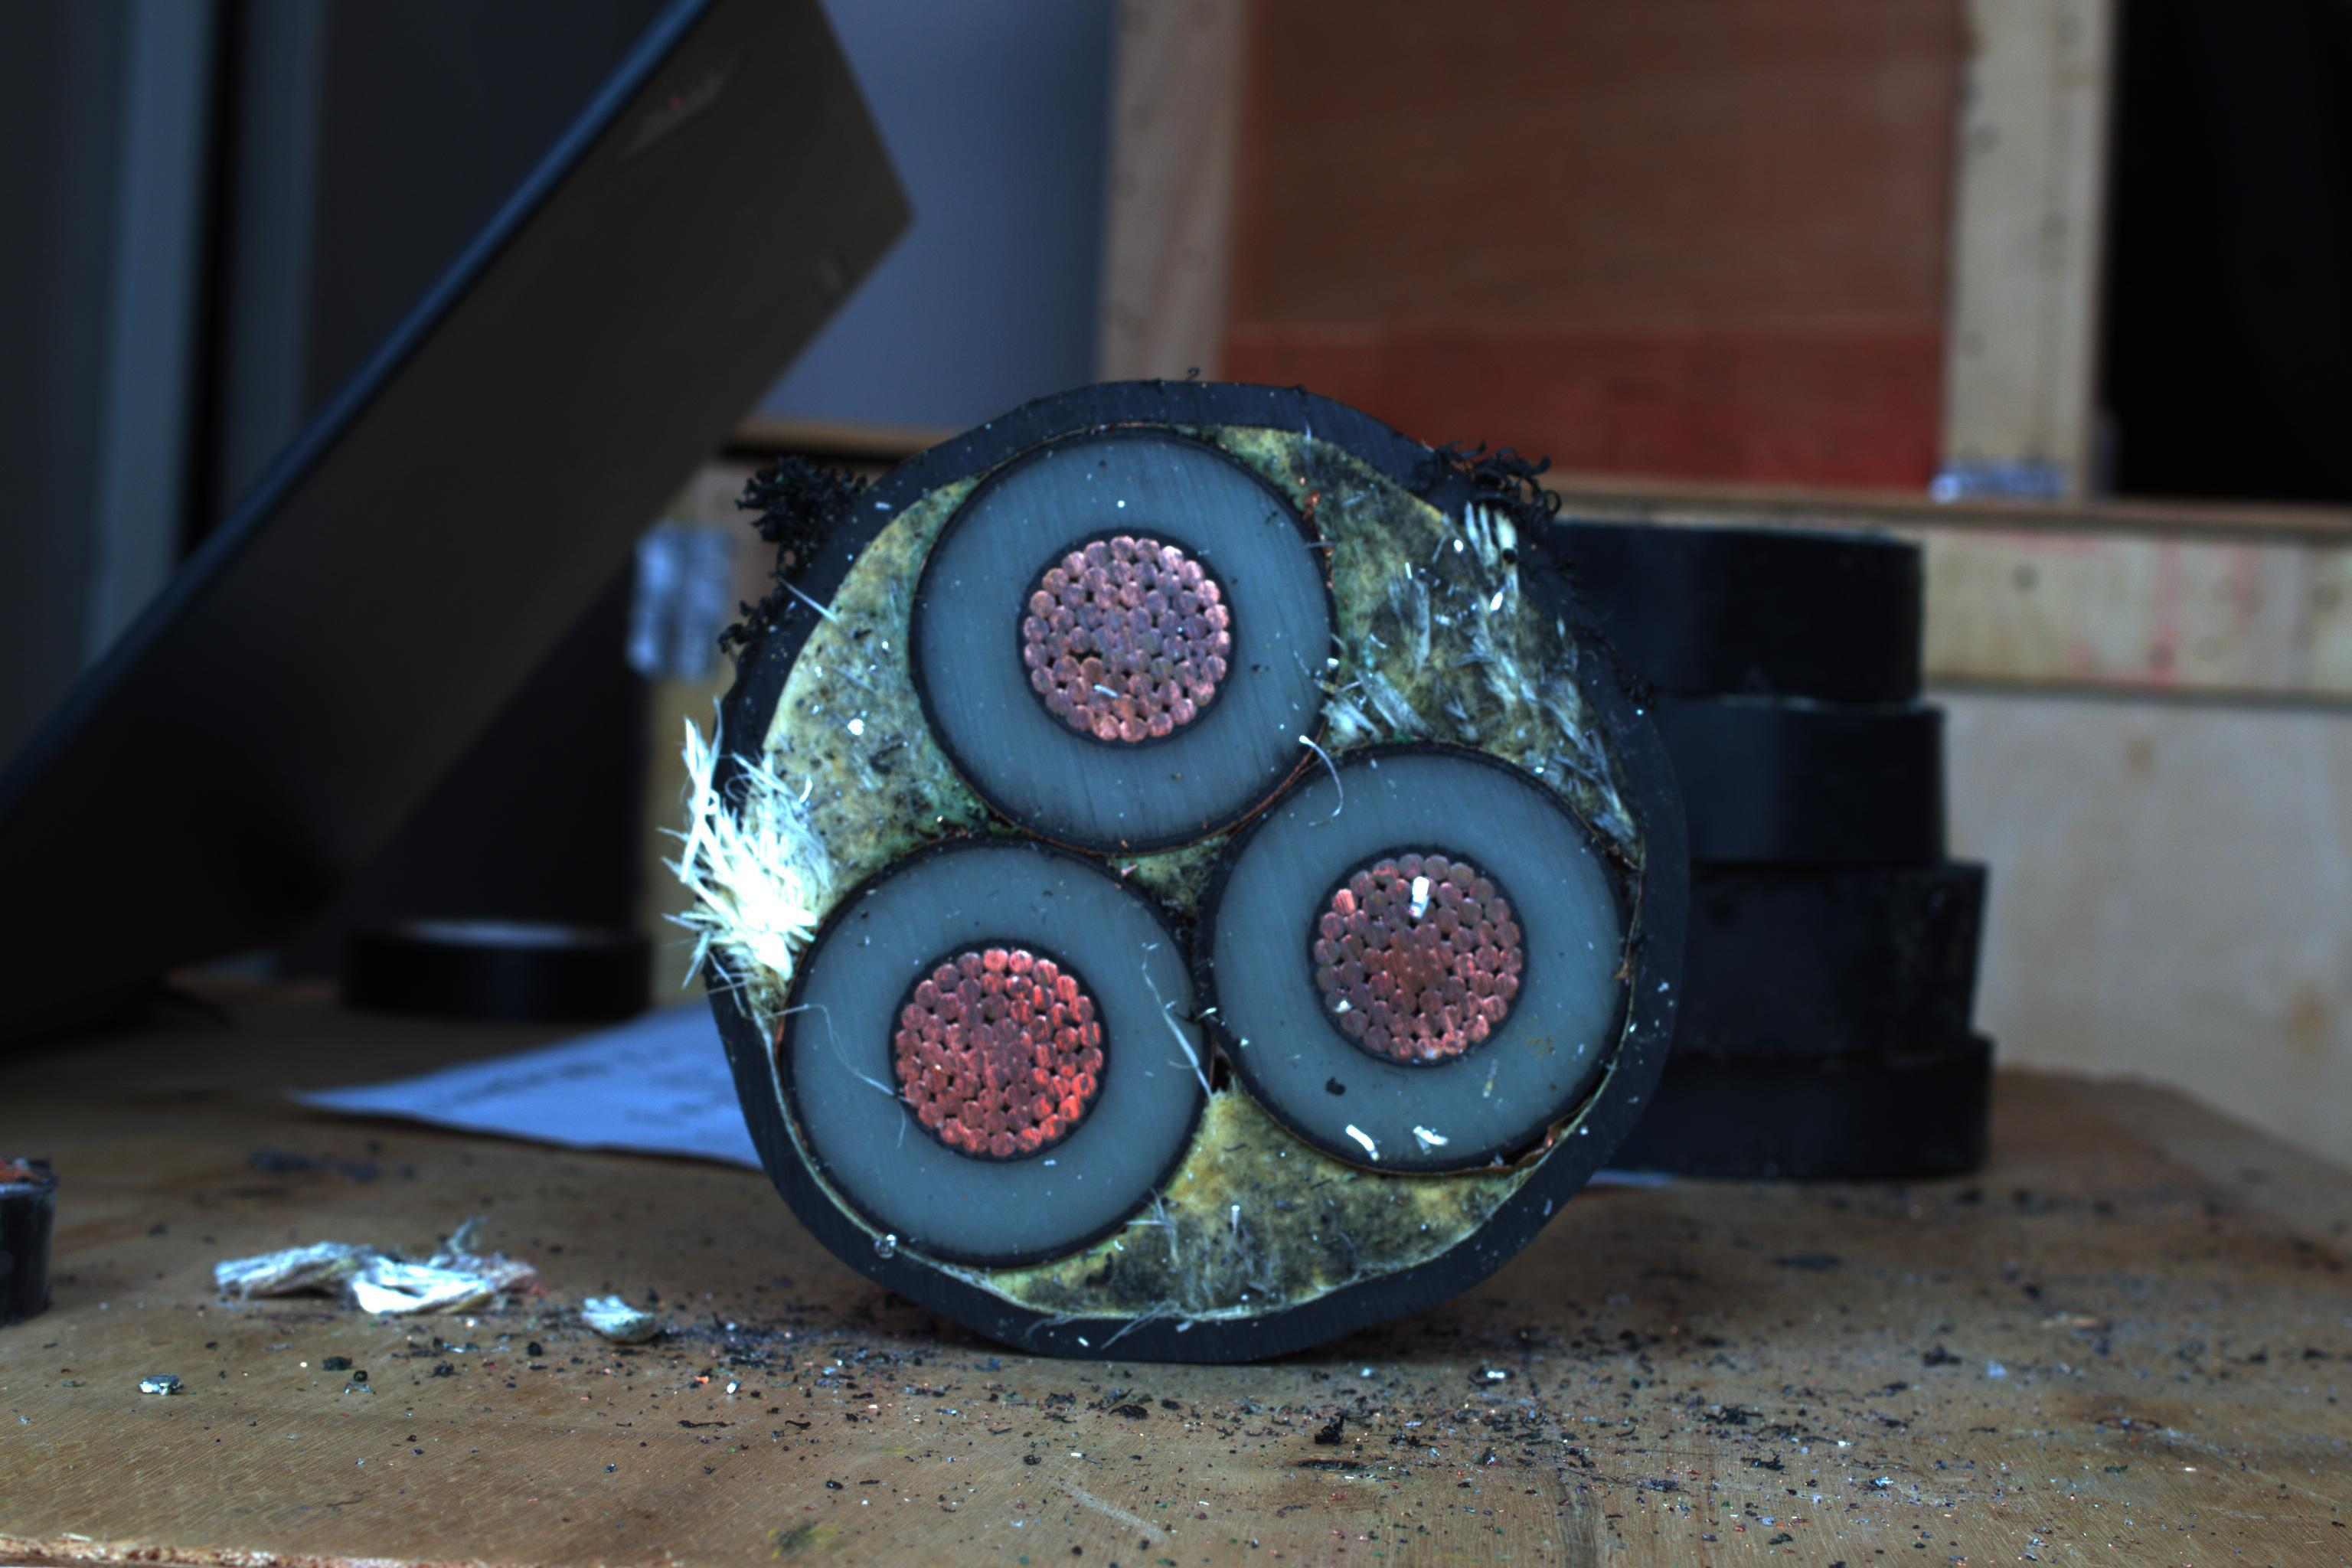ZA_YJV_26_35kV_3x400: (728, 378, 1678, 1347)
